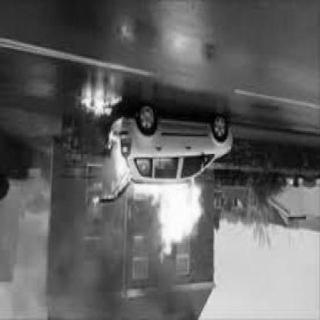Fire: (110, 115, 202, 268), (76, 94, 124, 124)
